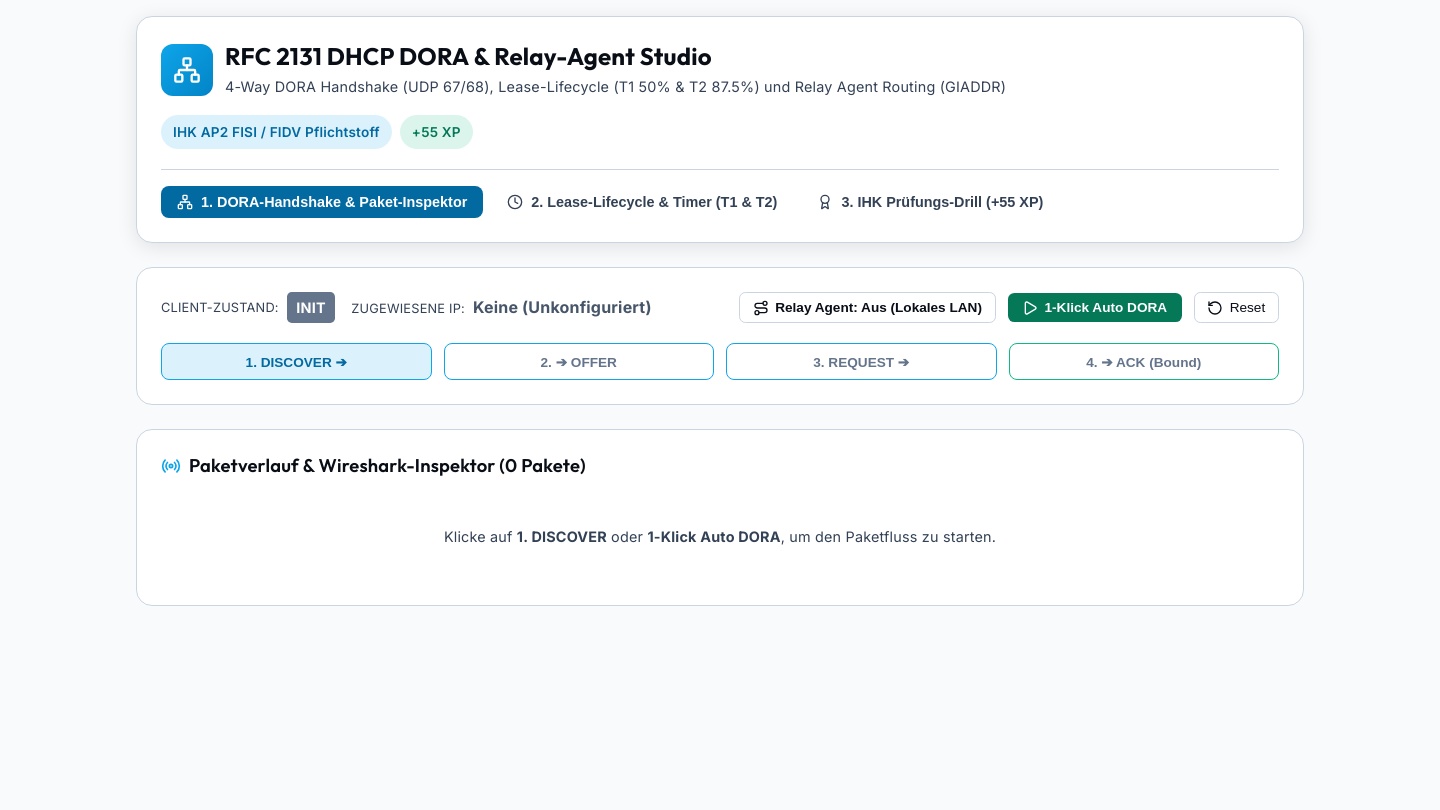
DhcpDoraLab: DORA-Handshake › erzwingt die Reihenfolge D-O-R-A und vergibt die XP beim ACK
The width and height of the screenshot is (1440, 810).
Click the button "1. DISCOVER ➔".
click(296, 362)  # box left=161, top=343, right=432, bottom=380
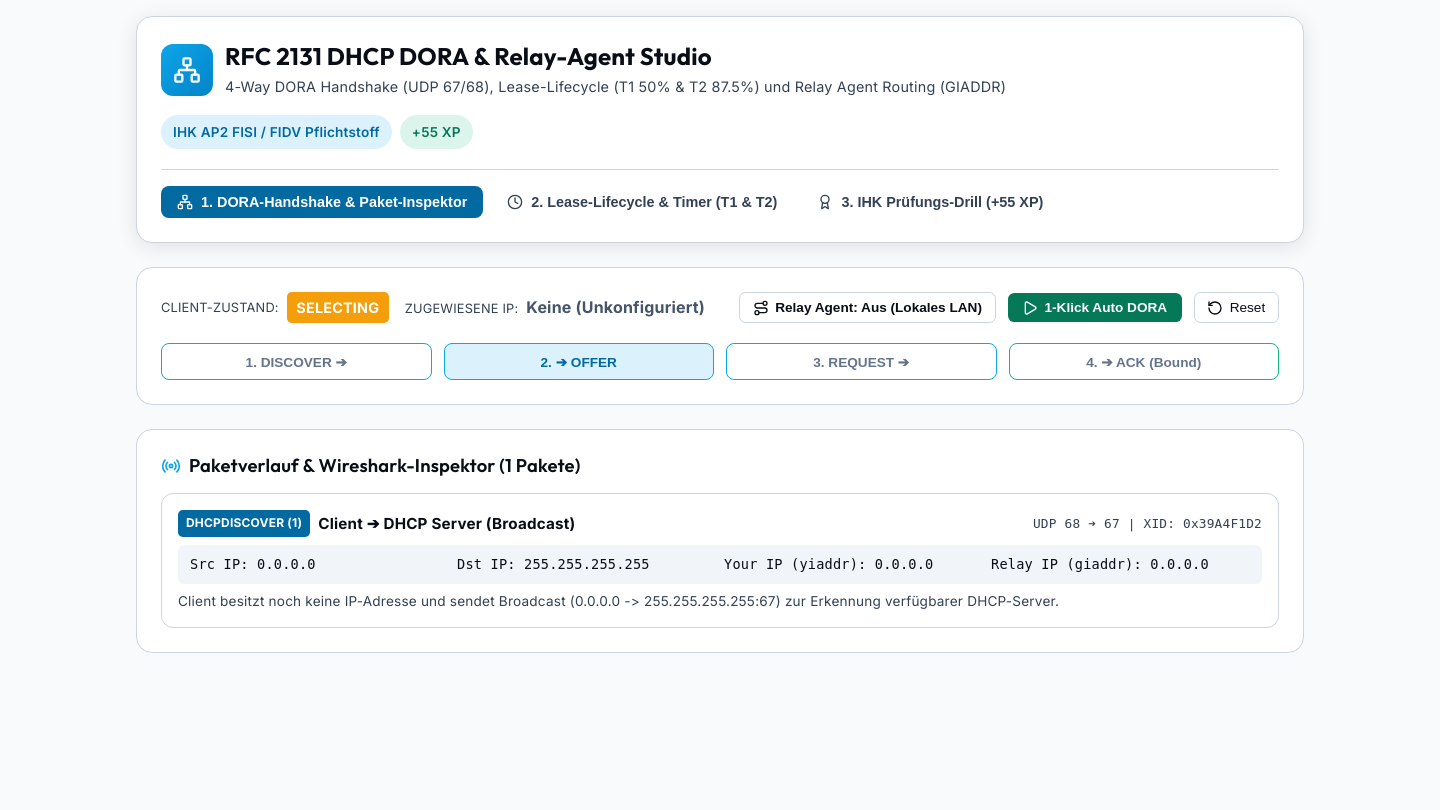
Expected: the text "SELECTING" is shown, left=287, top=292, right=389, bottom=323
Click the button "2. ➔ OFFER".
click(579, 362)  # box left=444, top=343, right=714, bottom=380
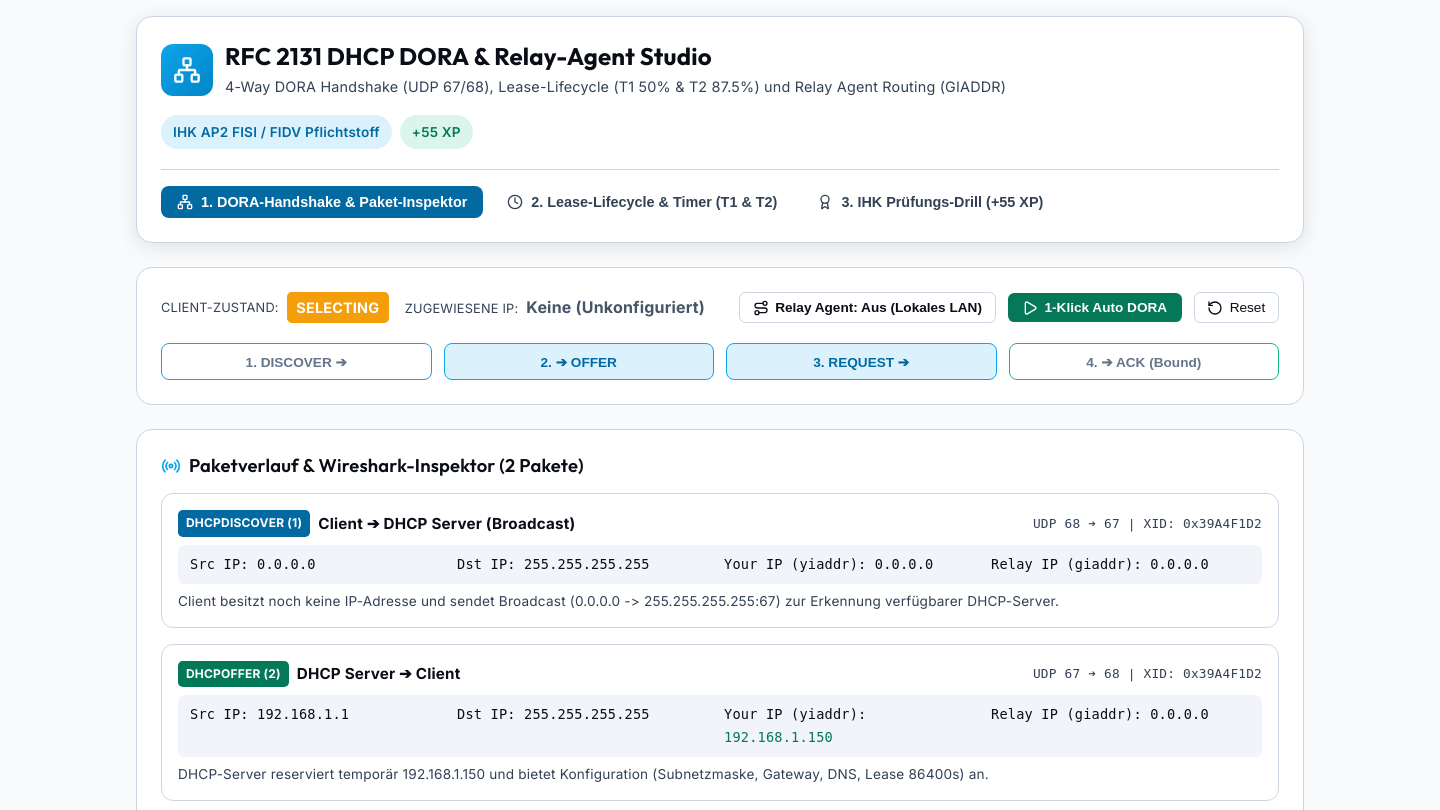
Click the button "3. REQUEST ➔".
click(861, 362)  # box left=726, top=343, right=996, bottom=380
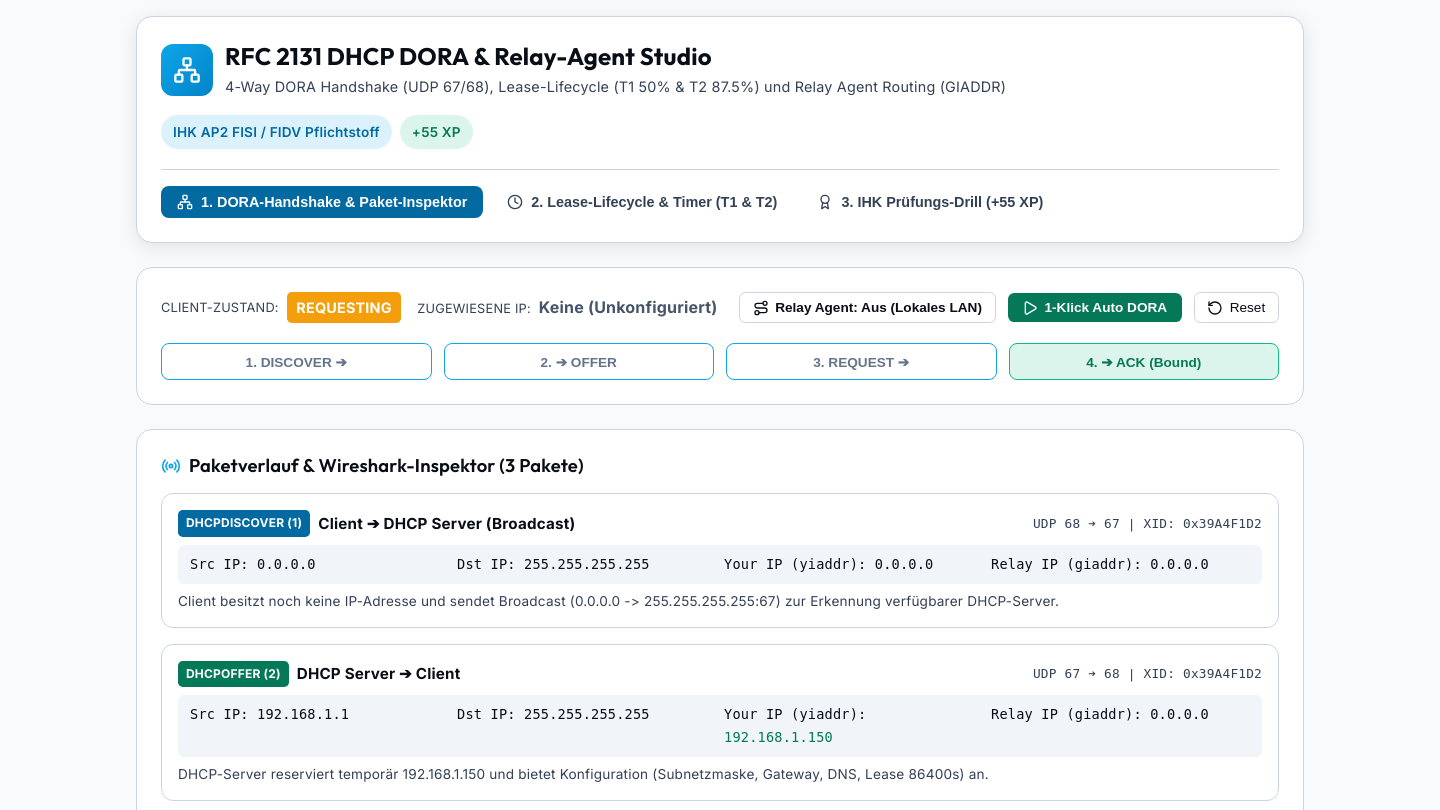
Expected: the text "REQUESTING" is shown, left=287, top=292, right=401, bottom=323
Click the button "4. ➔ ACK (Bound)".
click(1144, 362)  # box left=1008, top=343, right=1279, bottom=380
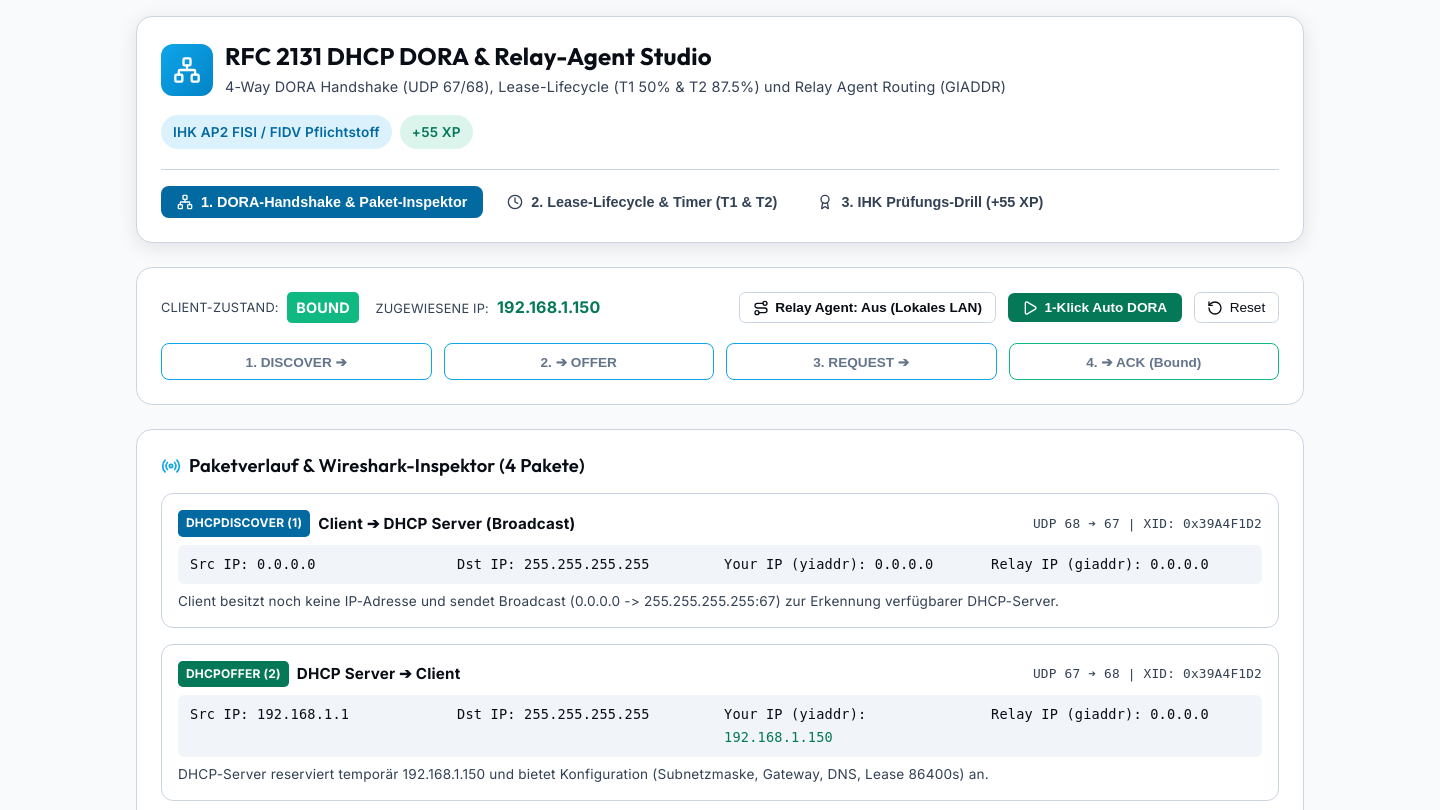
Expected: the text "BOUND" is shown, left=287, top=292, right=359, bottom=323
Expected: the heading "Paketverlauf & Wireshark-Inspektor (4 Pakete)" is shown, left=161, top=454, right=585, bottom=477
